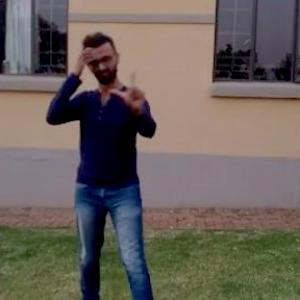land_hand: (108, 62, 152, 117)
